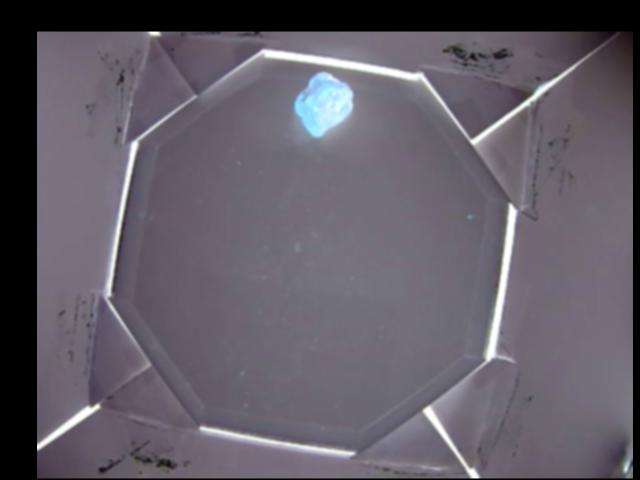Brisk: (294, 71, 352, 136)
